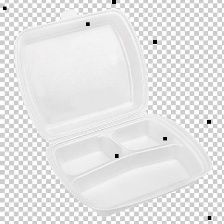foam_box: (11, 3, 215, 219)
